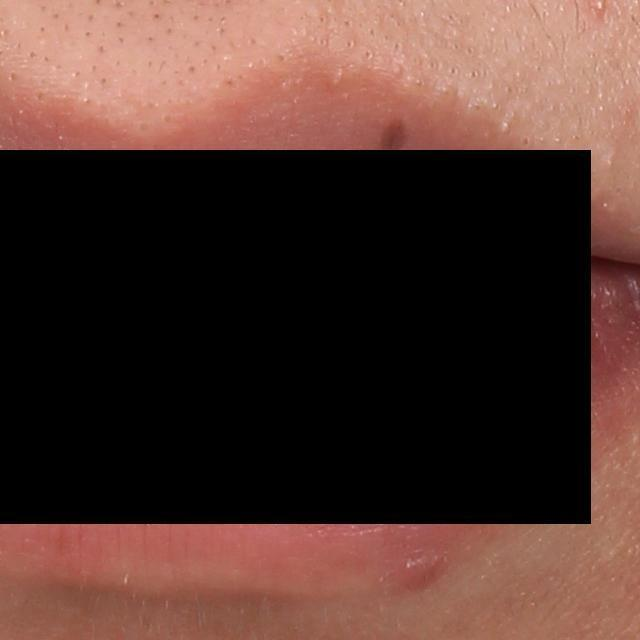nevus: (381, 111, 418, 157)
papule: (392, 545, 459, 599)
